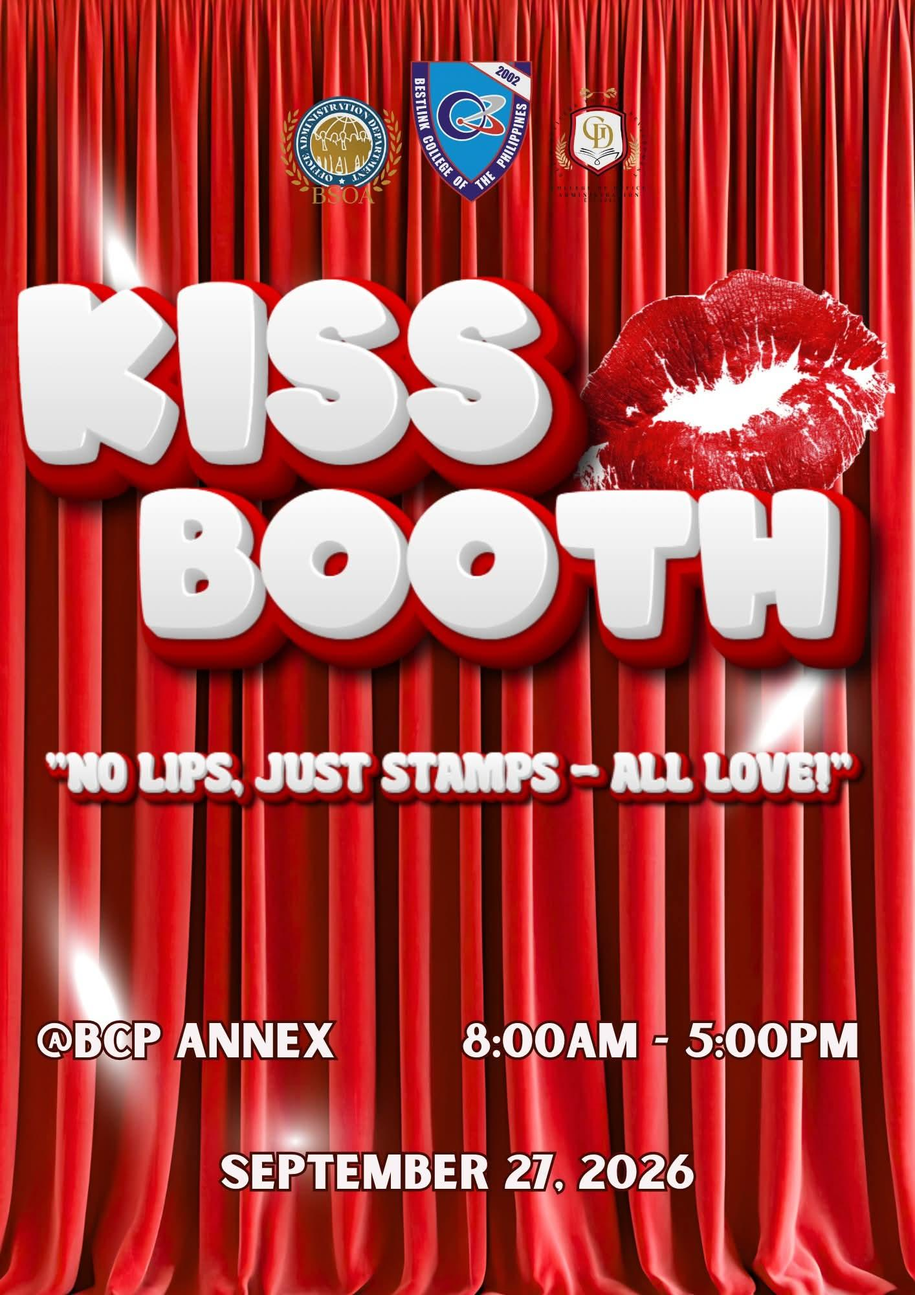embellishment: (578, 269, 894, 490)
logo: (405, 56, 538, 210), (273, 91, 409, 207), (546, 84, 654, 209)
text: (15, 265, 862, 678), (44, 741, 865, 809), (210, 1143, 702, 1196), (453, 1017, 862, 1065), (28, 1017, 349, 1062)
